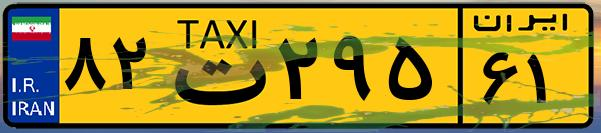1: (525, 38, 570, 115)
2: (270, 28, 330, 110), (110, 28, 158, 98)
5: (385, 28, 445, 110)
6: (475, 38, 525, 113)
8: (57, 26, 110, 100)
9: (330, 28, 385, 110)
ت: (158, 12, 270, 120)
